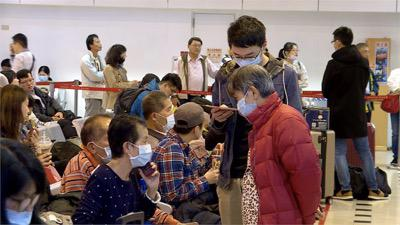mask_weared_incorrect: (287, 49, 300, 61)
with_mask: (129, 135, 153, 170), (234, 92, 257, 119), (231, 51, 262, 67), (160, 105, 176, 135), (116, 54, 126, 65), (37, 73, 48, 82)
without_mask: (18, 100, 29, 123), (18, 76, 33, 92), (161, 83, 176, 97), (7, 76, 19, 88), (191, 43, 201, 56), (94, 39, 102, 52), (362, 50, 370, 58)
